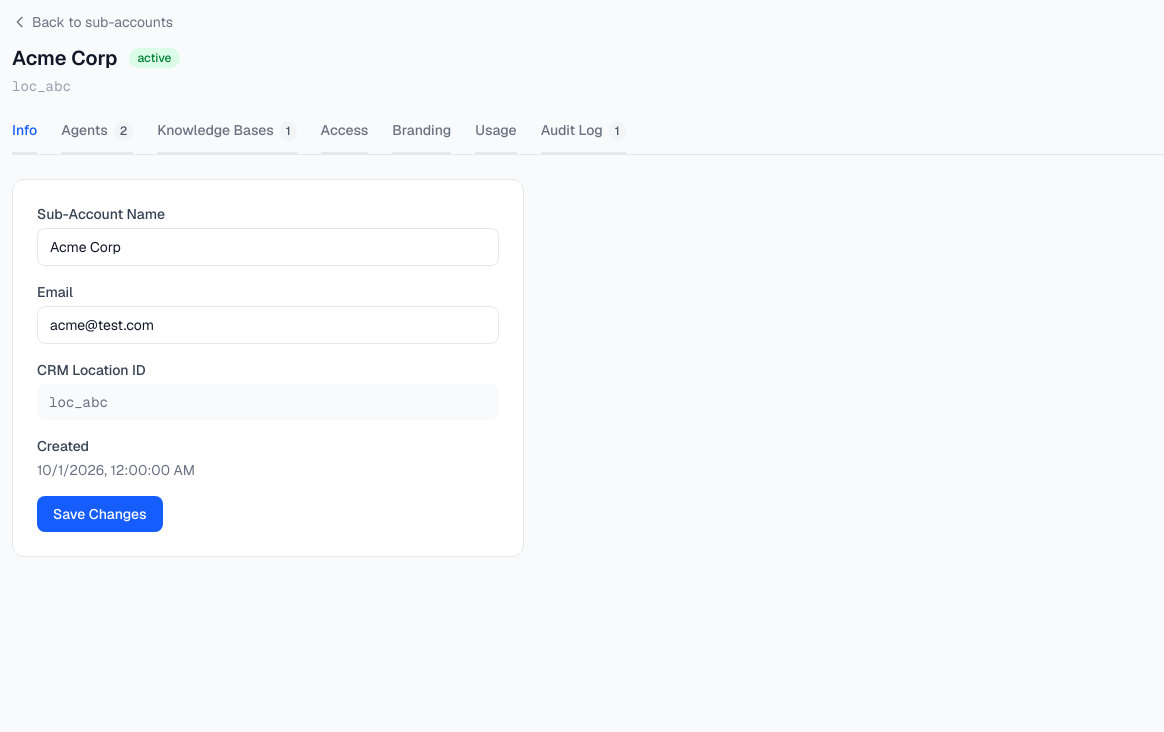
Test: TenantDetail › switches to audit tab and shows log entries
Click the button "Audit Log1" at {"x": 583, "y": 137}, box [541, 120, 626, 154]
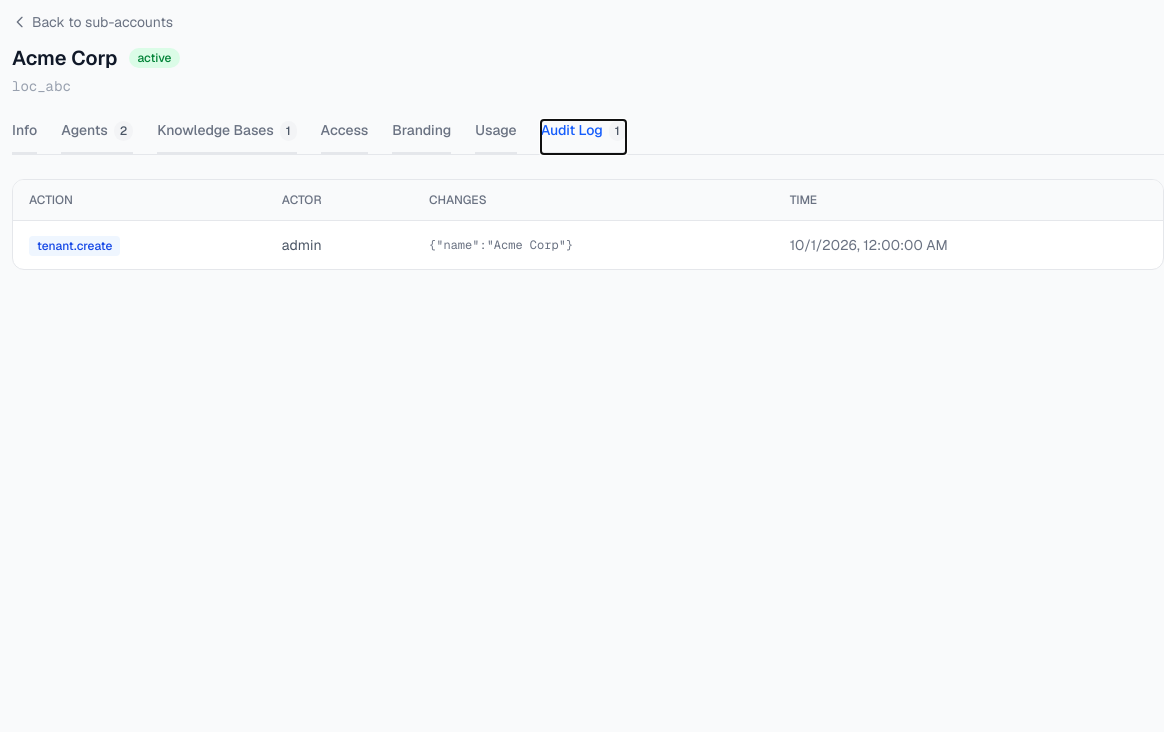
Expected: the text "tenant.create" is shown, [29, 236, 120, 256]
